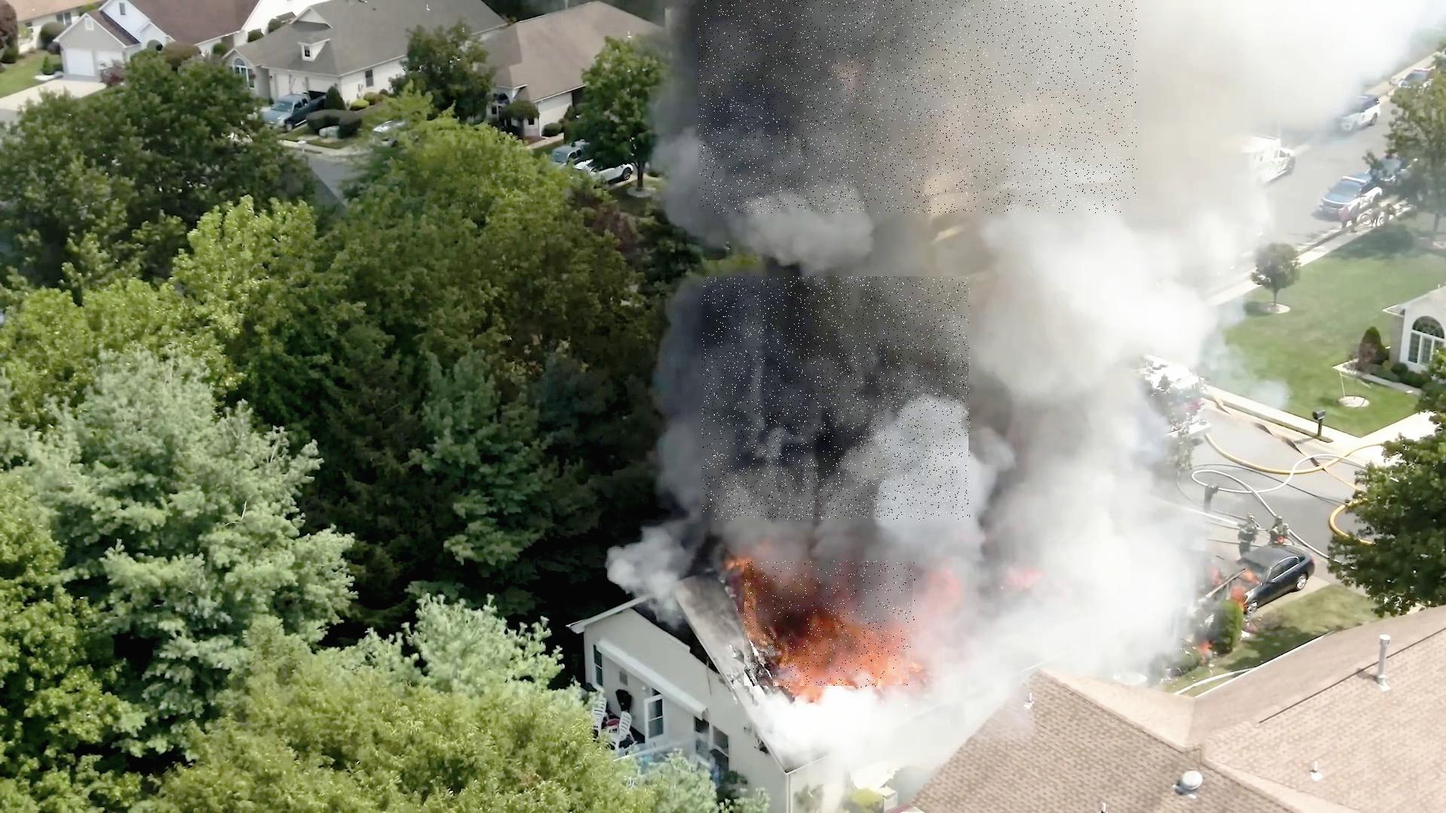fire: (745, 561, 916, 688)
smoke: (699, 0, 1138, 213), (703, 276, 971, 519)
